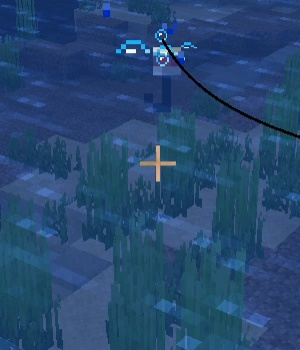down: (143, 43, 189, 123)
